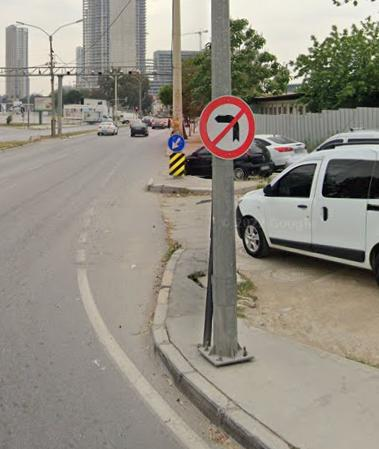leftturnsareforbidden: (200, 96, 253, 156)
